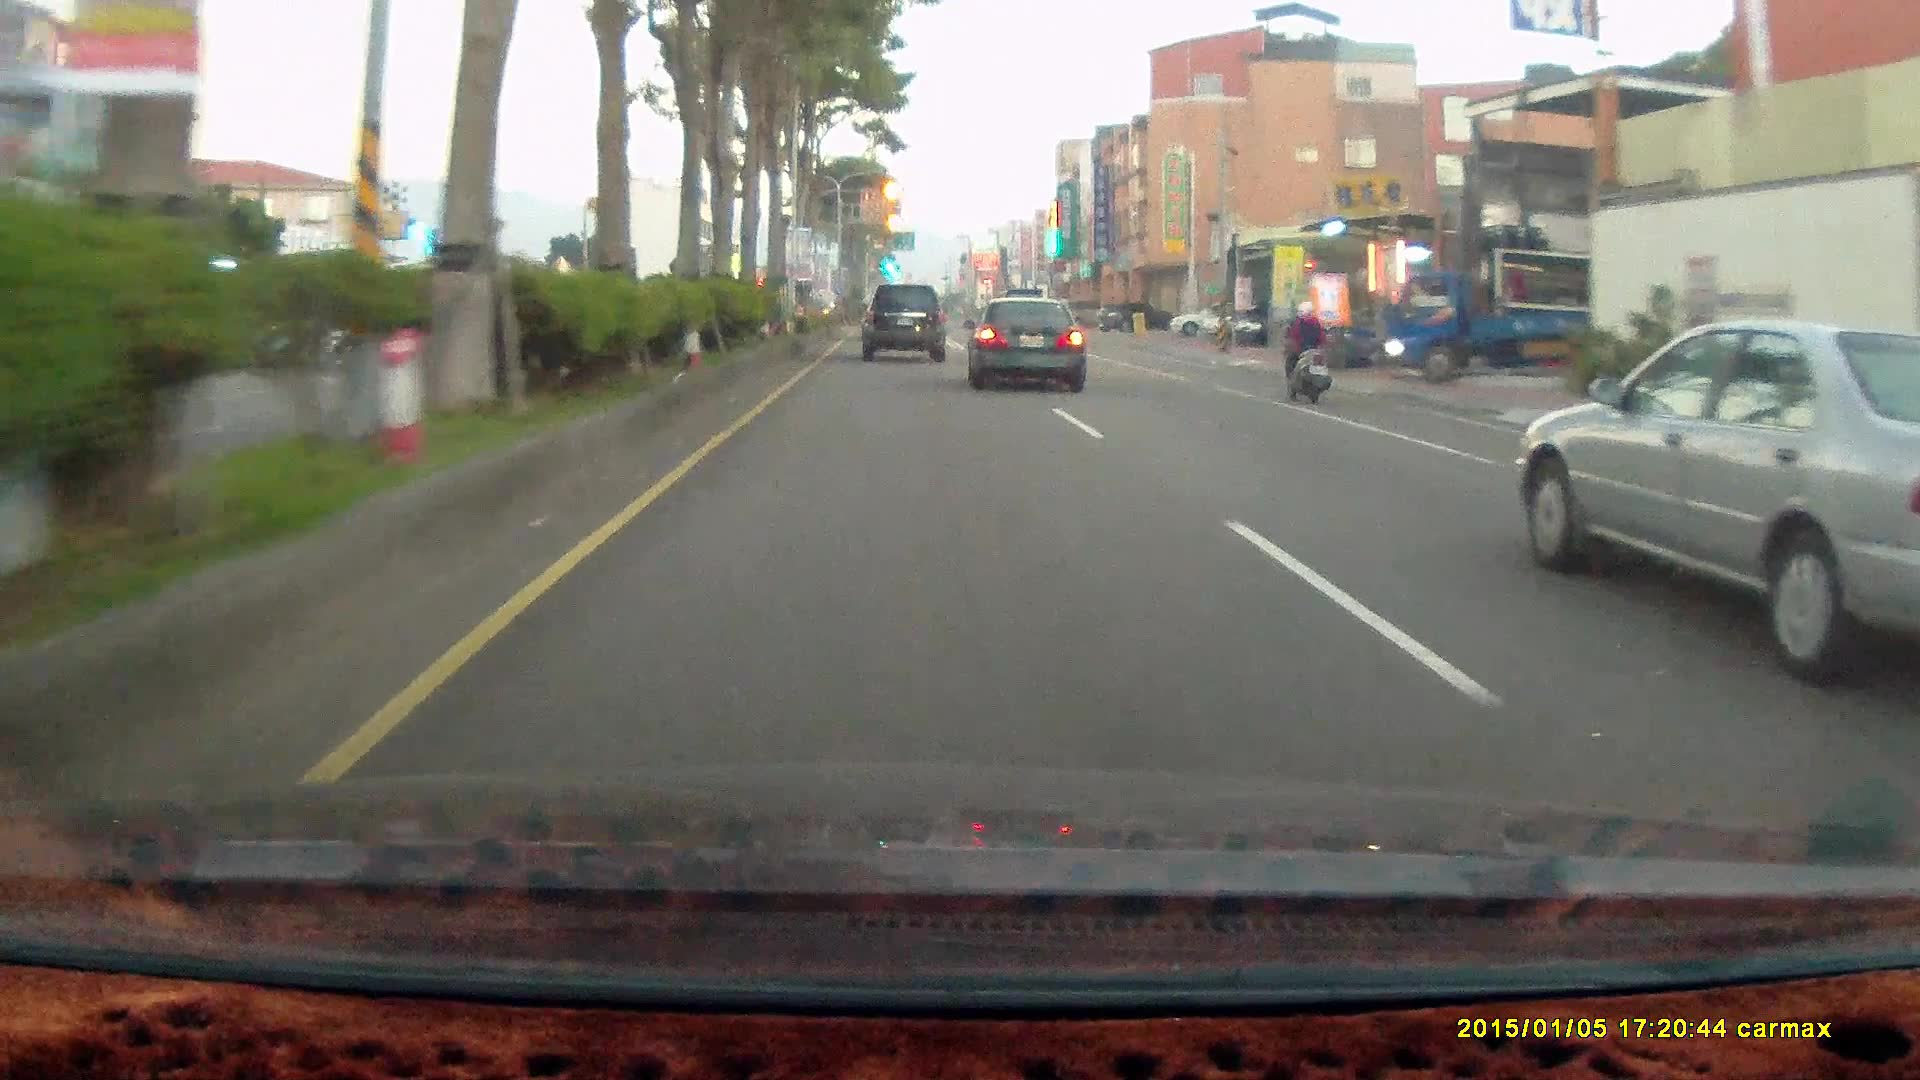rider: (1269, 292, 1342, 414), (1278, 295, 1336, 400)
vehicle: (1513, 317, 1920, 681), (1386, 248, 1593, 384), (1384, 271, 1623, 384), (960, 293, 1085, 391), (973, 295, 1094, 386), (860, 281, 951, 358), (859, 284, 946, 362), (1235, 300, 1319, 347), (1168, 302, 1249, 336), (1099, 301, 1170, 333)
